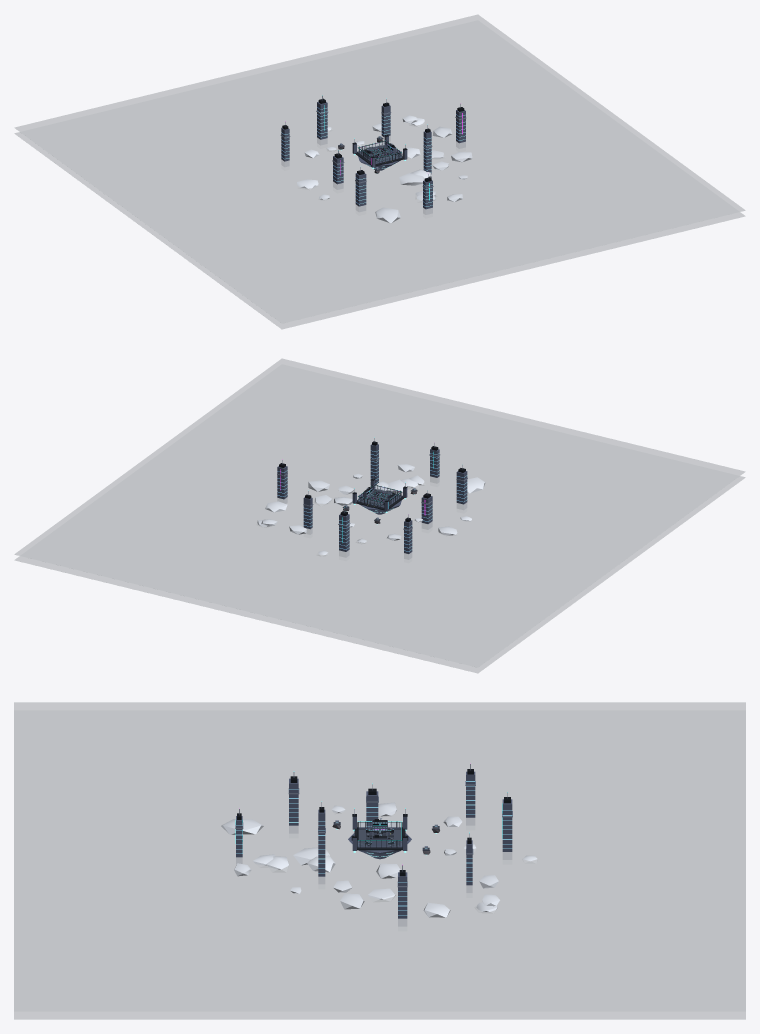
The model's file is arena_skyfort_low.glb.
3 renders of one model, top to bottom at view 1: azimuth 30°, elevation 25°; view 2: azimuth 150°, elevation 25°; view 3: azimuth 270°, elevation 25°, orthographic. The views are drawn at different scales.
Visible parts, largest first — view 1: Backdrop_Clouds, Backdrop_Islands, Backdrop_Hull; view 2: Backdrop_Clouds, Backdrop_Islands, Backdrop_Hull; view 3: Backdrop_Clouds, Backdrop_Islands, Backdrop_Hull, Outer_Walls.
Part boxes in pixels (x1,y1,x2,y2): Backdrop_Clouds: (14, 14, 745, 329); Backdrop_Islands: (280, 95, 466, 214); Backdrop_Hull: (352, 131, 407, 170); Backdrop_Clouds: (14, 358, 745, 673); Backdrop_Islands: (277, 437, 467, 558); Backdrop_Hull: (352, 475, 407, 514); Backdrop_Clouds: (14, 702, 745, 1019); Backdrop_Islands: (235, 763, 512, 925); Backdrop_Hull: (348, 808, 411, 859); Outer_Walls: (357, 822, 402, 847).
Size of the model in its own units: 840 by 108 by 840.
